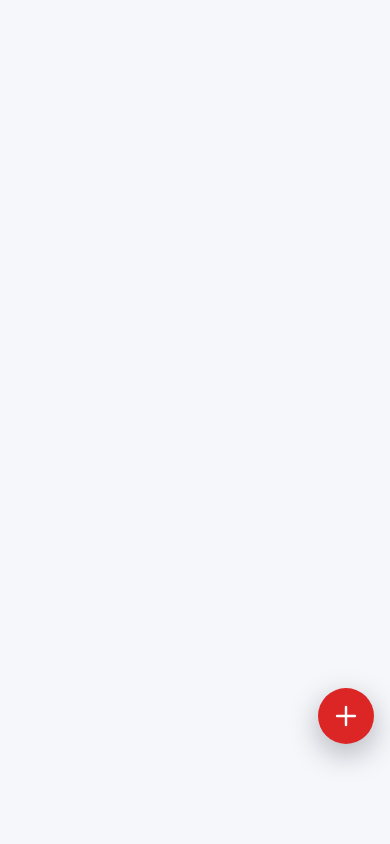
Scenario: MobileFab › closes the speed dial with Escape
Step 1. Click the button named "Finance actions" → [346, 716], box left=318, top=688, right=374, bottom=744
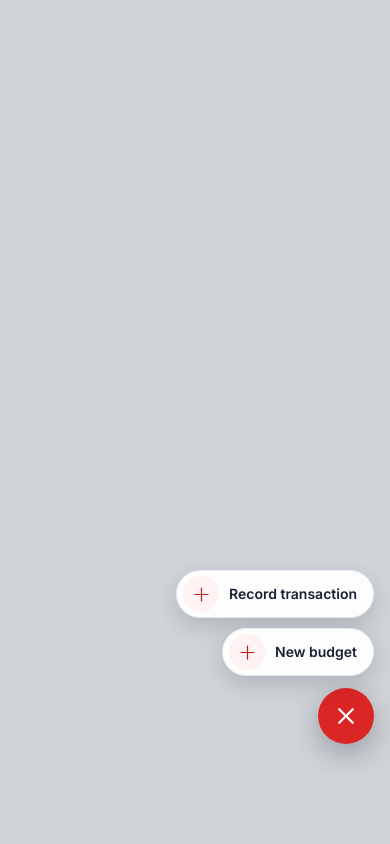
Now the menu is shown, box left=176, top=570, right=374, bottom=676
Step 2. Press Escape
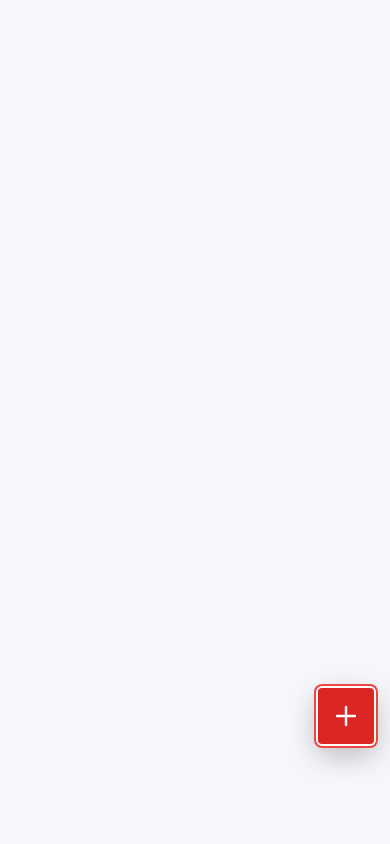
Now the menu is gone
